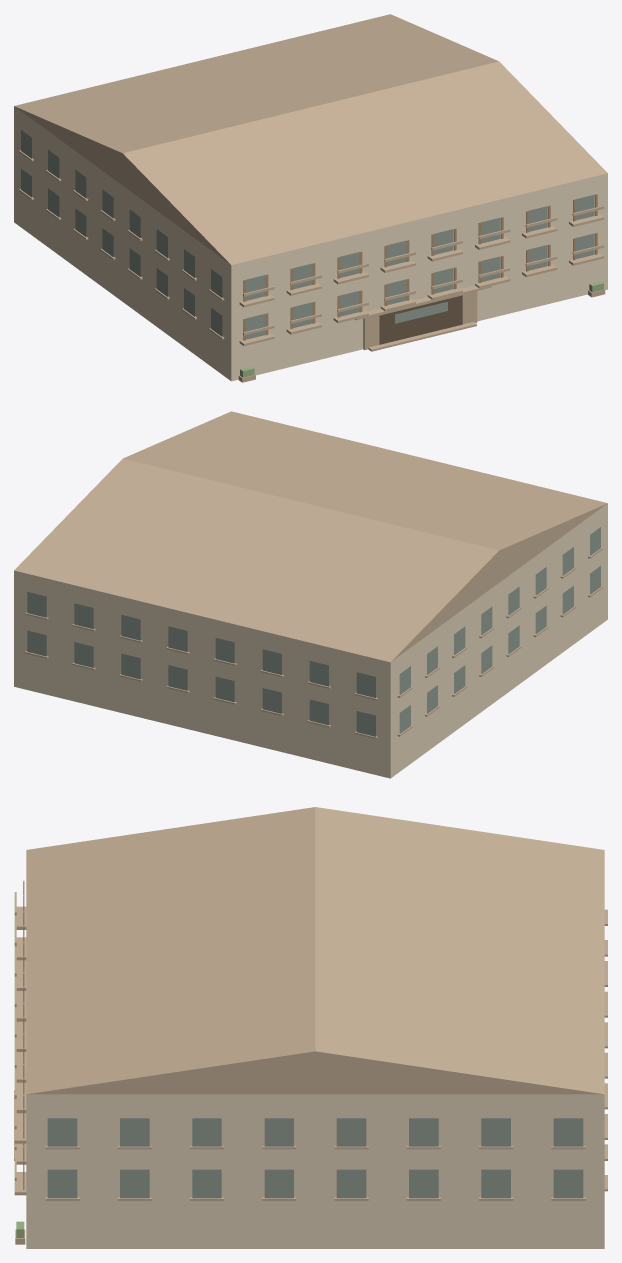
The model's file is residential_4x4_a.glb.
3 views of the same model, one above another, from view 1: azimuth 30°, elevation 25°; view 2: azimuth 150°, elevation 25°; view 3: azimuth 270°, elevation 25° (orthographic). The views are drawn at different scales.
Visible parts, largest first — view 1: residential_4x4_a_0; view 2: residential_4x4_a_0; view 3: residential_4x4_a_0.
Part boxes in pixels (x1,y1,x2,y2): residential_4x4_a_0: [14, 14, 607, 382]; residential_4x4_a_0: [14, 411, 607, 778]; residential_4x4_a_0: [14, 807, 607, 1248].
Size of the model in its own units: 30.86 by 11.5 by 31.33.
